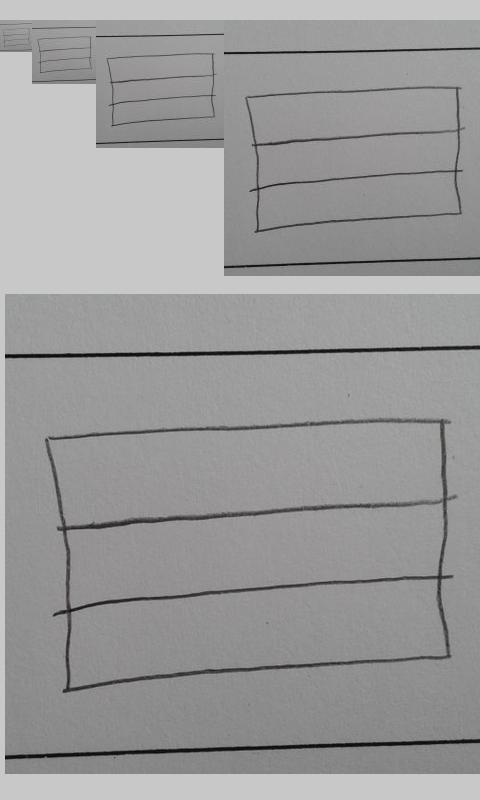list_view: (44, 416, 453, 692), (244, 86, 463, 234), (105, 51, 217, 128), (37, 35, 92, 74), (2, 27, 31, 48)
